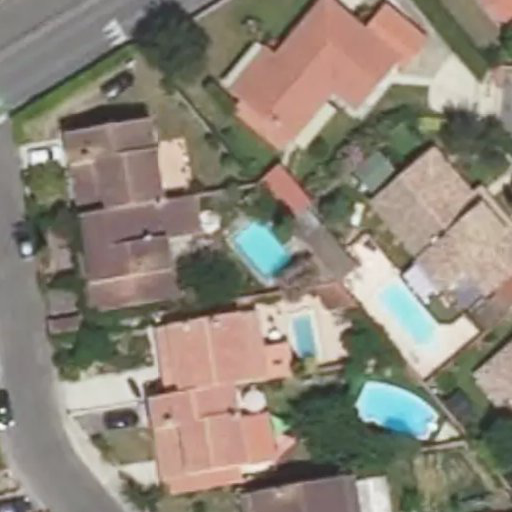pool: (223, 227, 289, 256)
